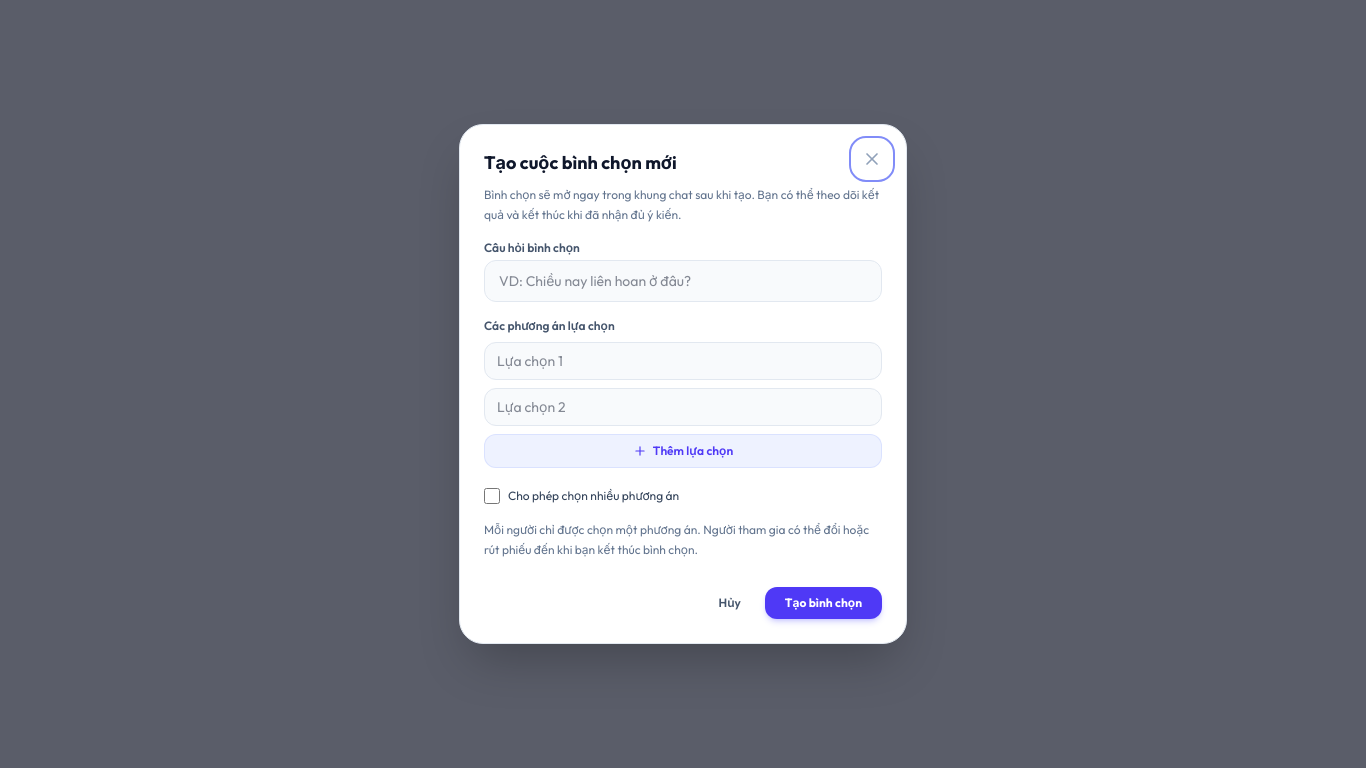
preserves the input and displays a rejected request
Type "Question" into the field with placeholder "VD: Chiều nay liên hoan ở đâu?" at coordinates (683, 281), box [484,260,882,302]
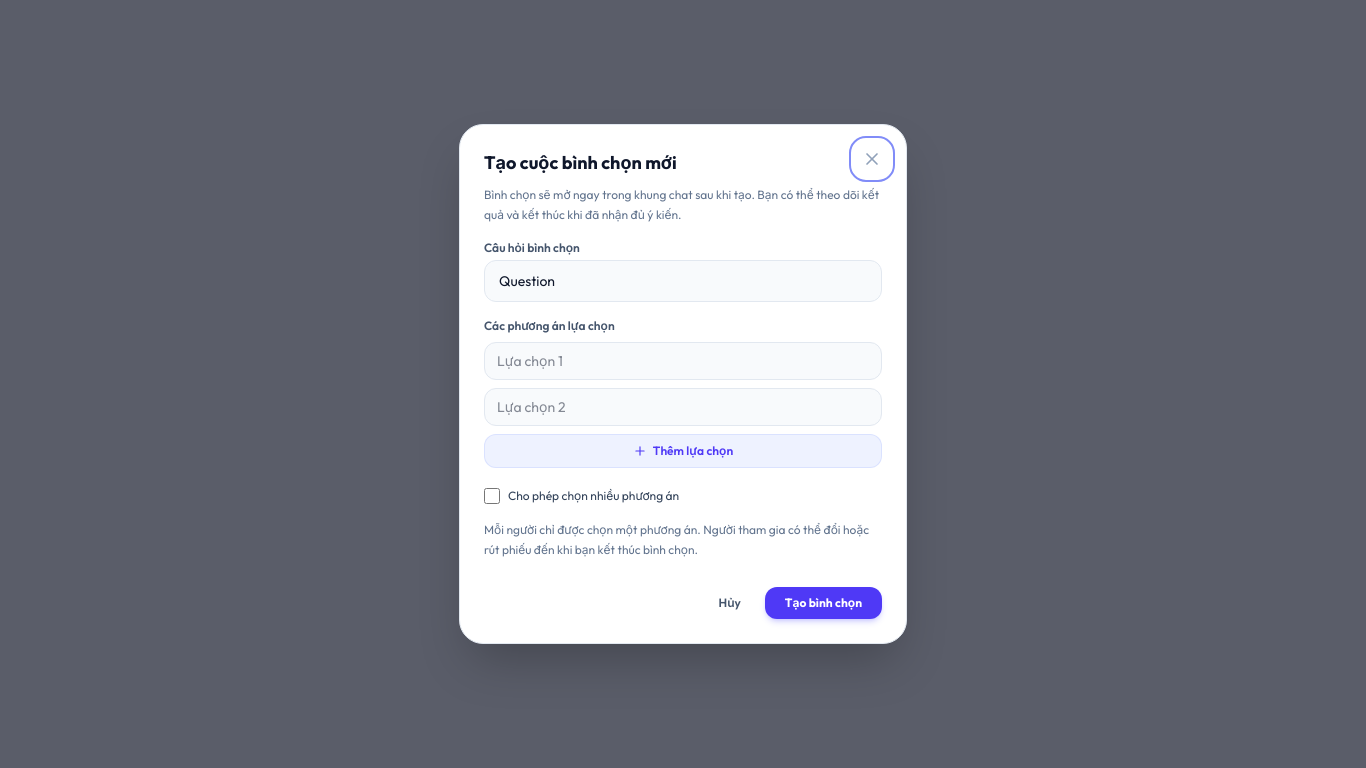
Type "A" into the field with placeholder "Lựa chọn 1" at coordinates (683, 361), box [484,342,882,380]
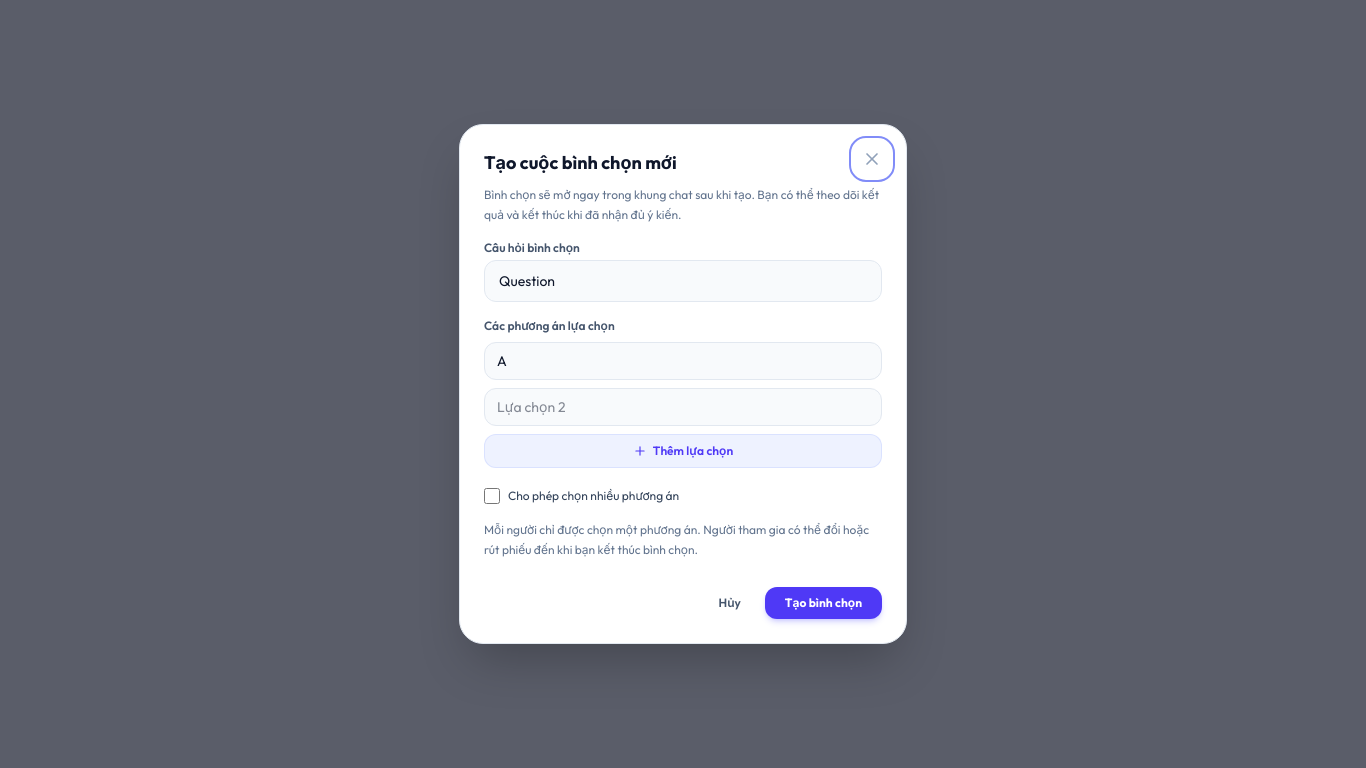
Type "B" into the field with placeholder "Lựa chọn 2" at coordinates (683, 407), box [484,388,882,426]
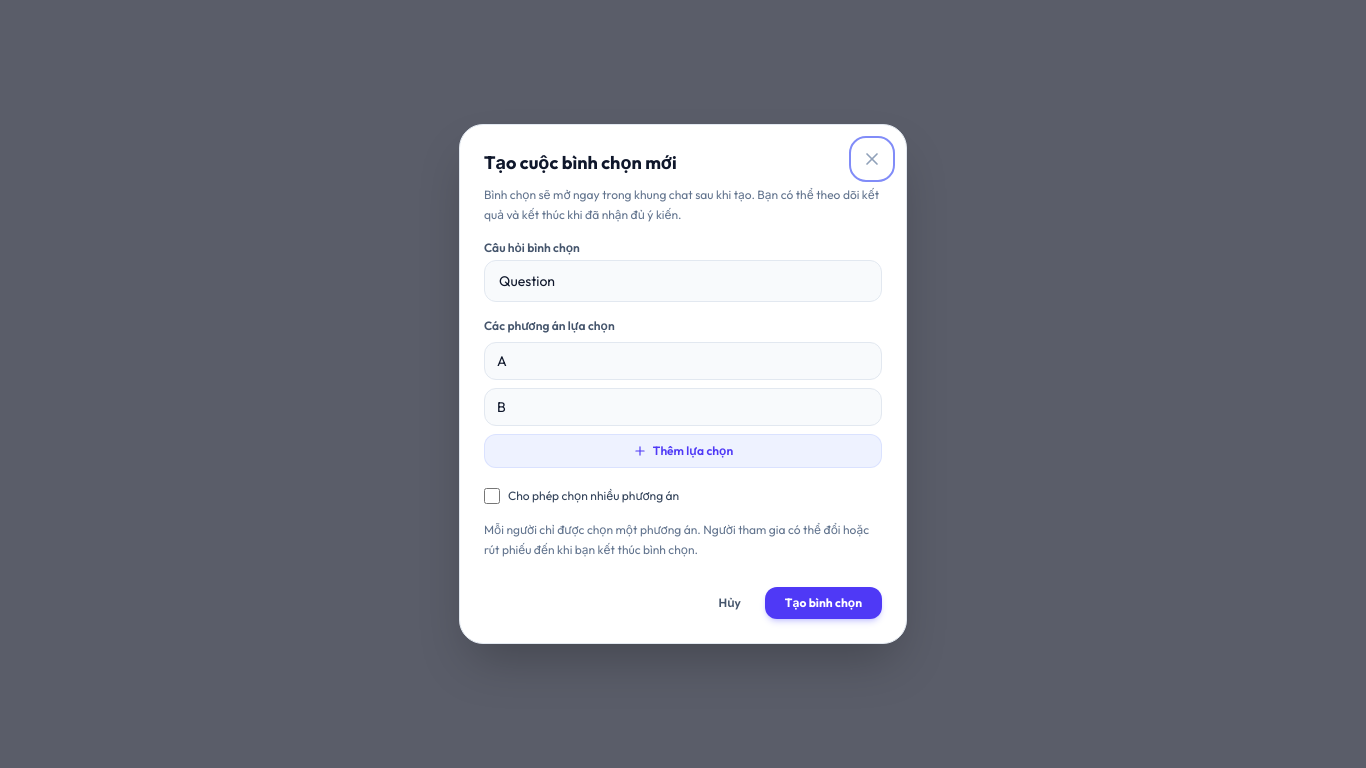
Click the button "Tạo bình chọn" at coordinates (823, 603), box [765,587,882,619]
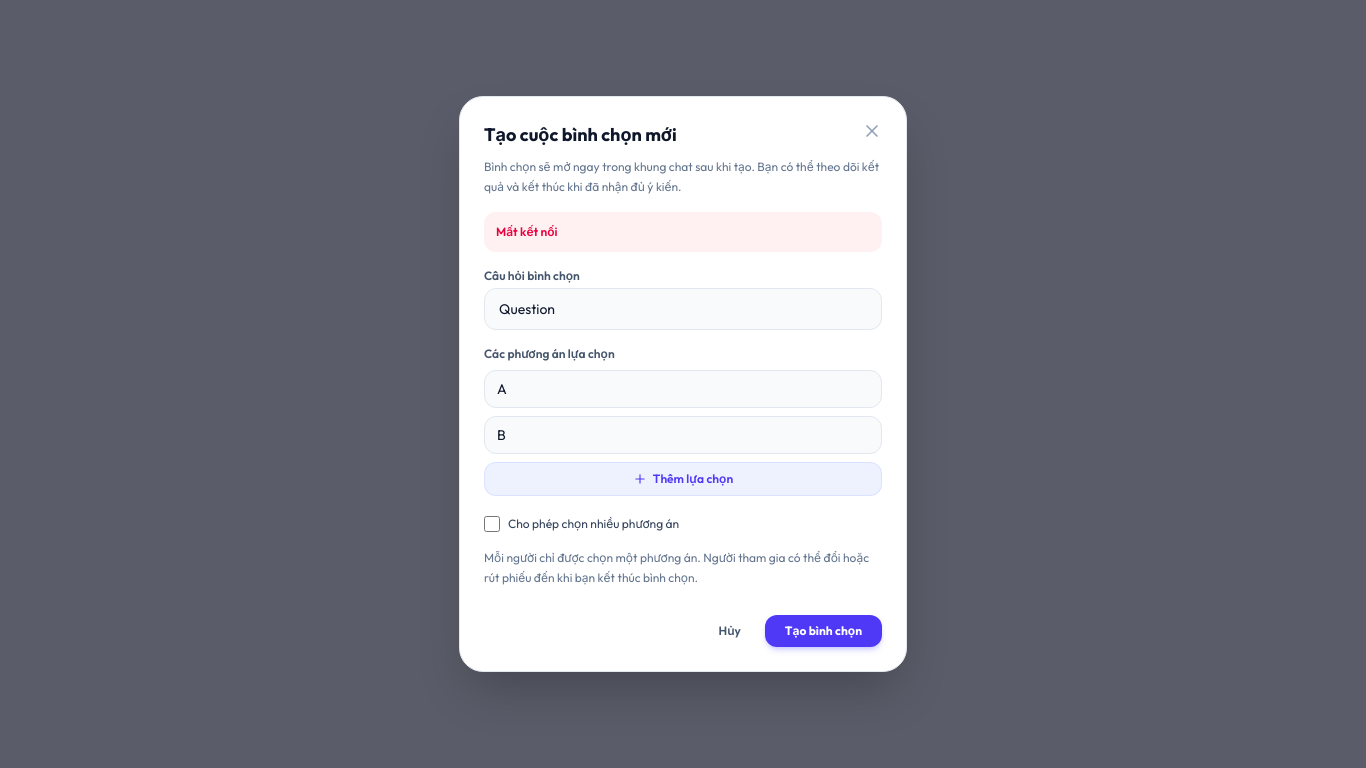
Expected: the text "Mất kết nối" is shown, [484,212,882,252]
